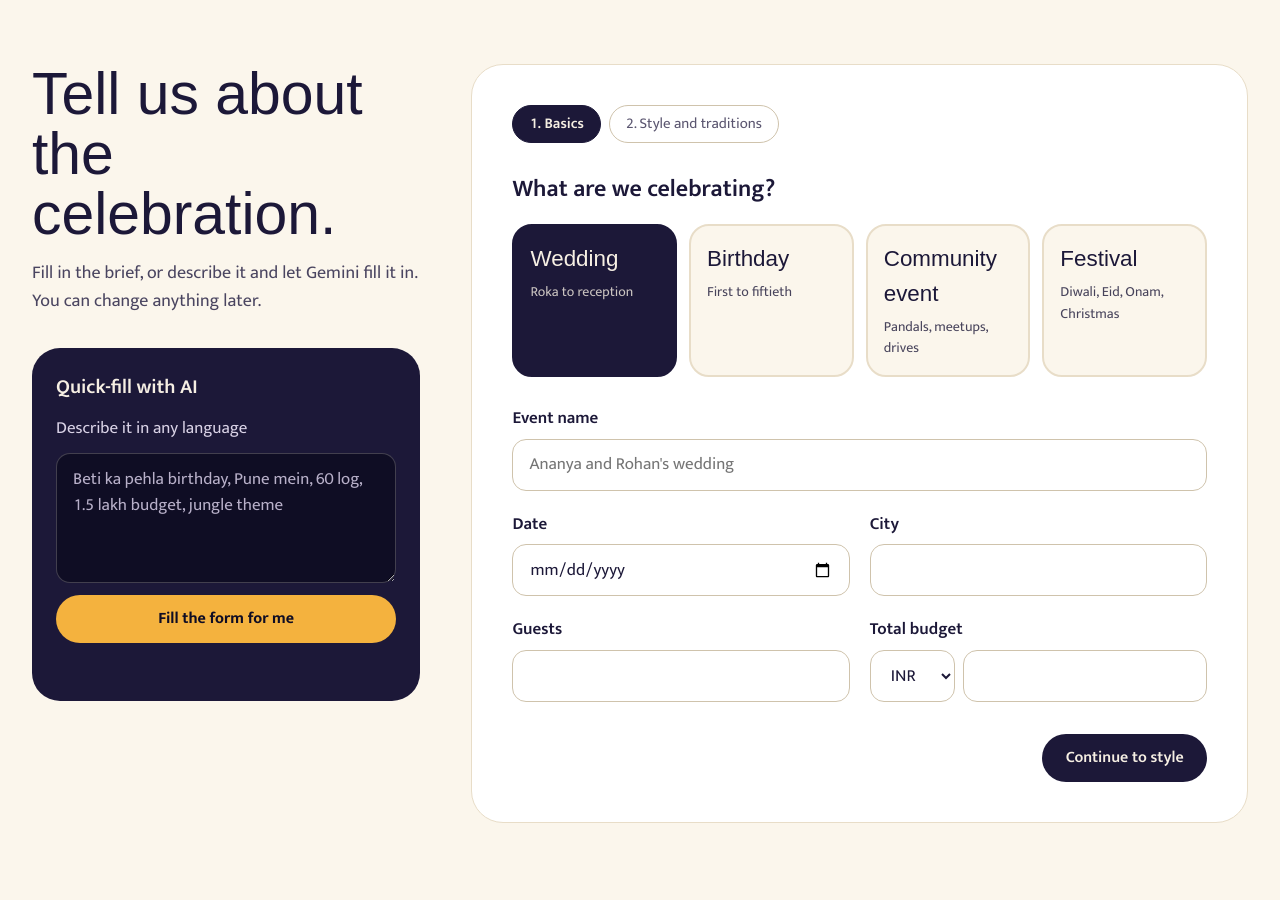
Scenario: BriefWizard › shows a quick-fill failure without losing what was typed
The image size is (1280, 900).
Type "Diwali at home" into the field labelled "Event name". click: (860, 465)
box: [512,439,1207,491]
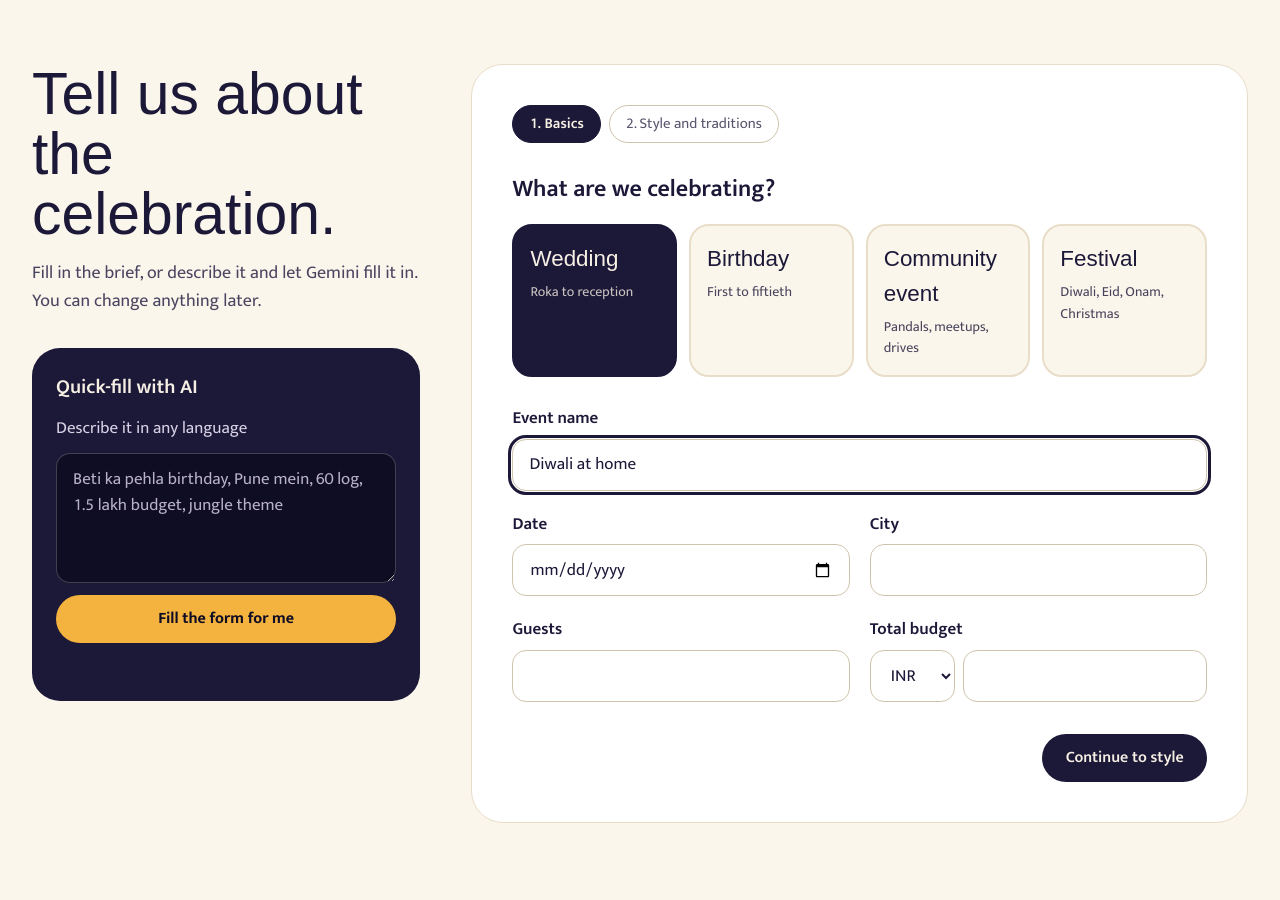
Type "Diwali party" into the text box labelled "Describe it in any language". click: (226, 518)
box: [56,453,396,583]
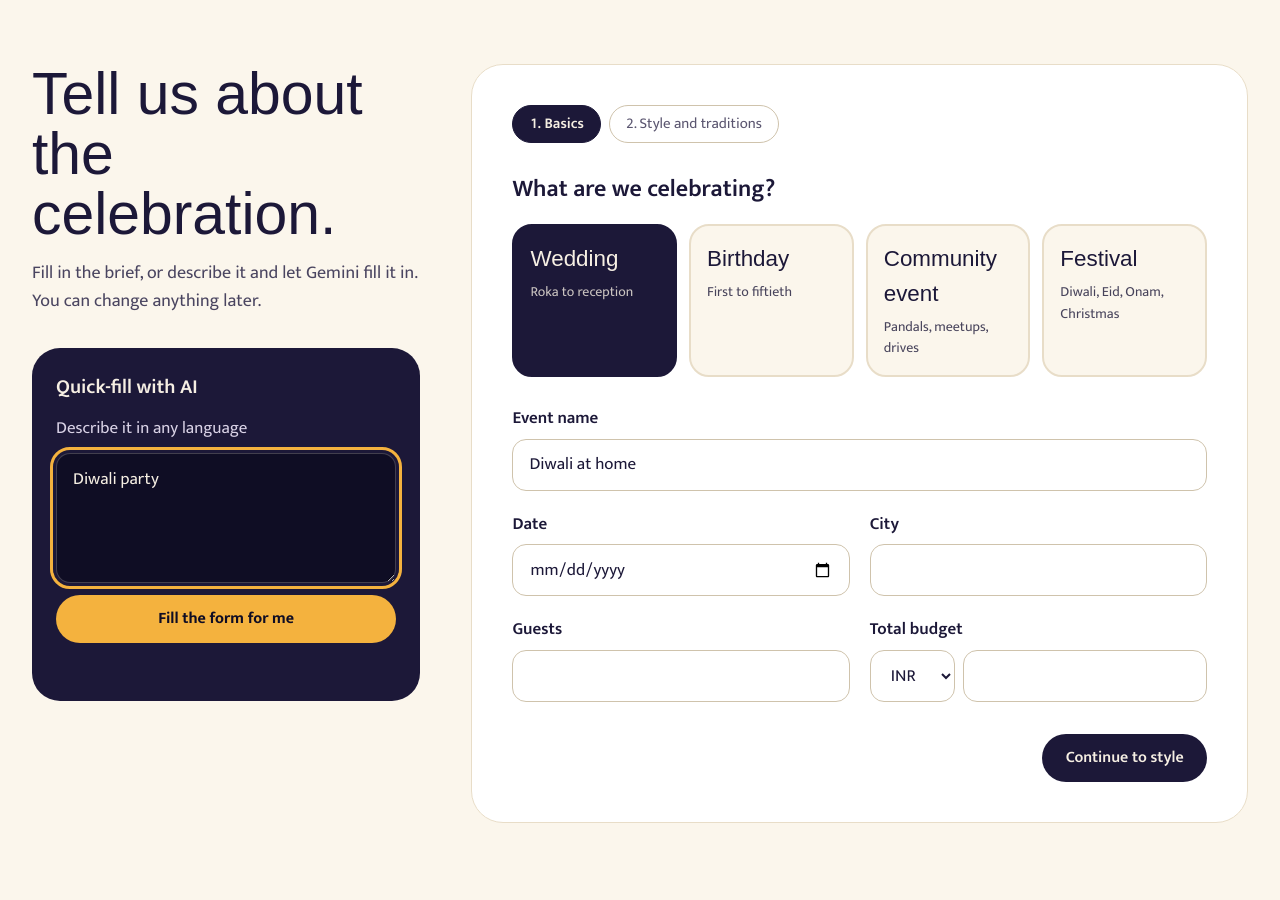
Click the button "Fill the form for me". click: click(226, 619)
box: [56,595,396,643]
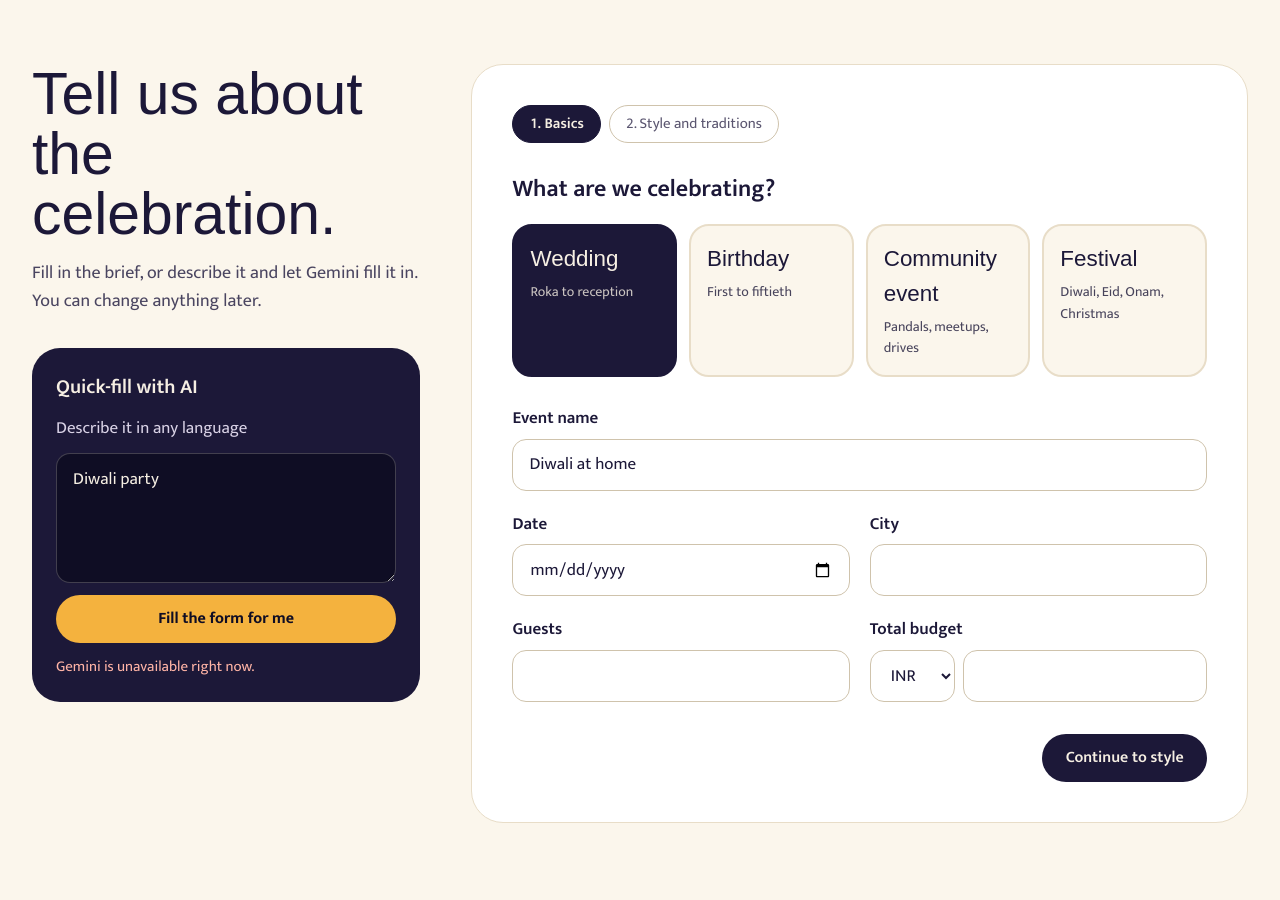
Expected: the text "Gemini is unavailable right now." is shown, [56,654,254,679]
